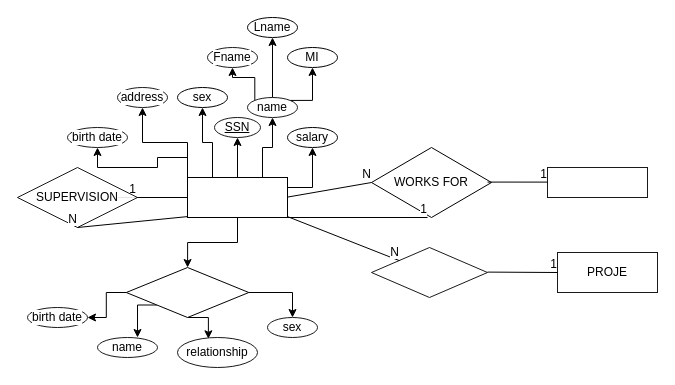
Image size: 675x385. Some labels were removed from this diagram. The centre of each missing label's shape, as x and y in pixels:
DEPARTMENT: the point at 597,182
DEPENDENTS OF: the point at 187,292
EMPLOYEE: the point at 237,197
WORKS ON: the point at 429,272
